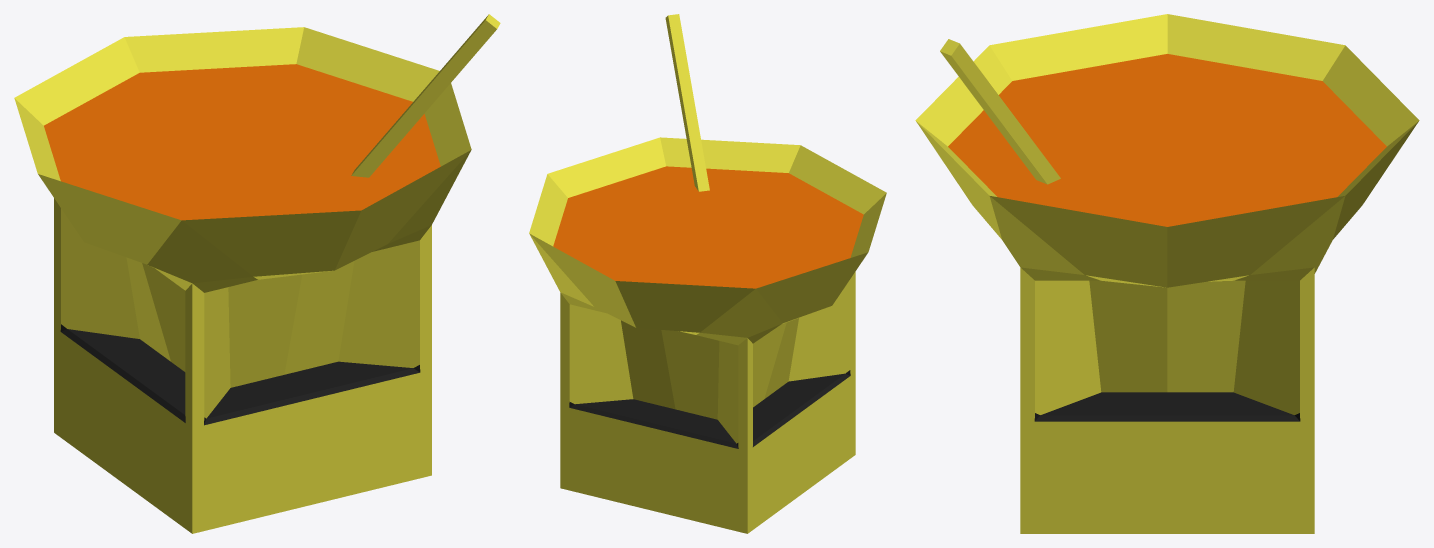
The model's file is mixer.fbx.
The picture shows the model from 3 angles, left to right: view 1: azimuth 30°, elevation 25°; view 2: azimuth 150°, elevation 25°; view 3: azimuth 270°, elevation 25°; orthographic projection. The views are drawn at different scales.
Parts seen in each view (by area): view 1: Building, Spoon; view 2: Building, Spoon; view 3: Building, Spoon.
Boxes of the visible parts, x1=… form: Building: x1=14, y1=27, x2=471, y2=533; Spoon: x1=351, y1=14, x2=500, y2=177; Building: x1=529, y1=137, x2=886, y2=533; Spoon: x1=665, y1=14, x2=709, y2=191; Building: x1=915, y1=14, x2=1419, y2=533; Spoon: x1=940, y1=39, x2=1060, y2=184.
Bounding box in the file's own units: 3.43 × 3.43 × 3.79.
